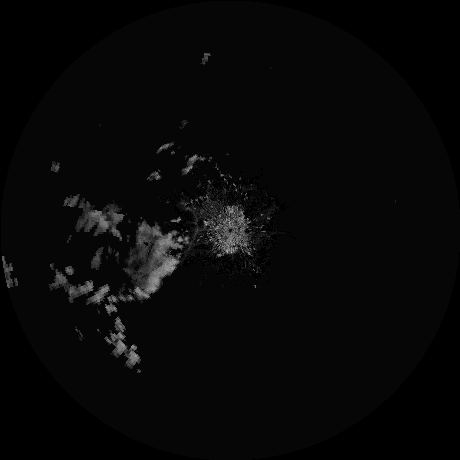frontgust: (181, 207, 201, 263)
